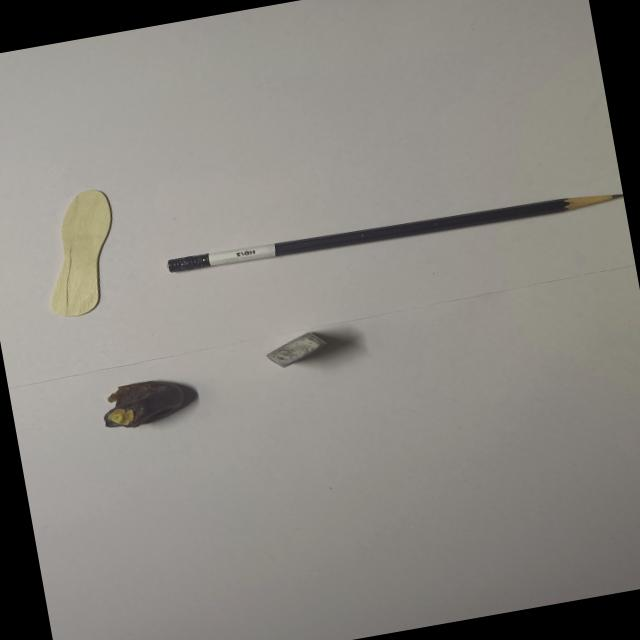Date-Bio: (91, 370, 205, 434)
Eraser-NonBio: (260, 324, 336, 372)
Pencil-Bio: (158, 176, 624, 284)
Wooden Spoon-Bio: (26, 182, 134, 324)
